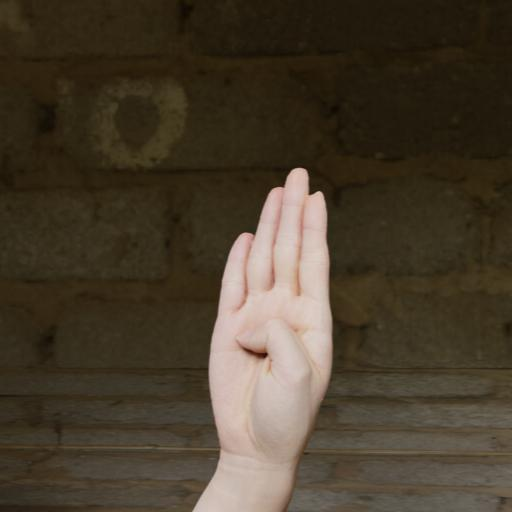B: (190, 160, 344, 512)
